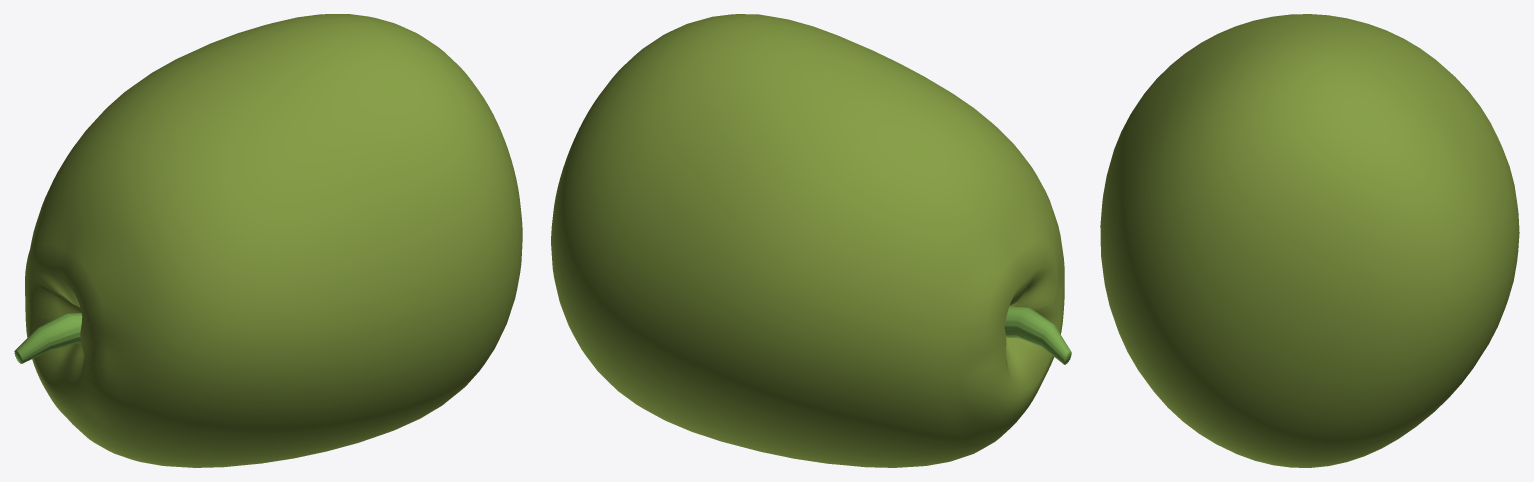
Rendered from Watermelon.dae.
3 renders of one model, left to right at view 1: azimuth 30°, elevation 25°; view 2: azimuth 150°, elevation 25°; view 3: azimuth 270°, elevation 25°, orthographic.
Visible parts, largest first — view 1: Sphere, Circle; view 2: Sphere, Circle; view 3: Sphere.
Part boxes in pixels (x1=…): Sphere: x1=25, y1=14, x2=522, y2=467; Circle: x1=14, y1=313, x2=82, y2=363; Sphere: x1=551, y1=14, x2=1064, y2=467; Circle: x1=1004, y1=307, x2=1071, y2=364; Sphere: x1=1100, y1=14, x2=1519, y2=467.
Size of the model in its own units: 0.2573 by 0.1954 by 0.2045.
